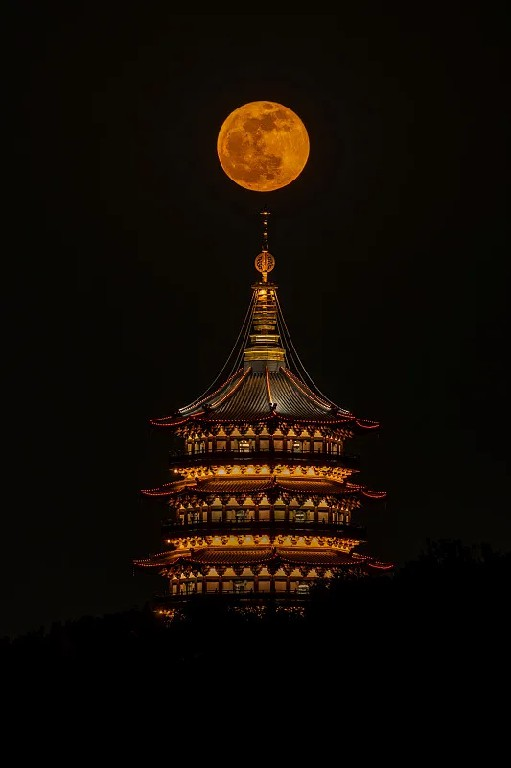Leifeng: (131, 209, 396, 629)
